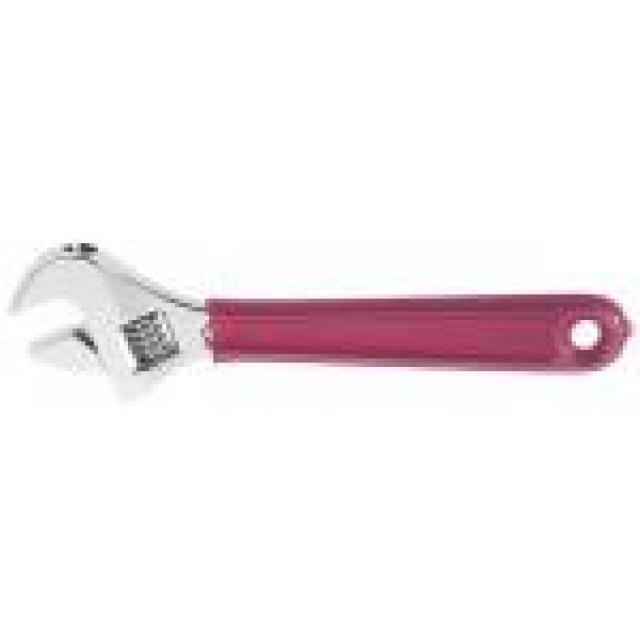wrench: (5, 180, 638, 442)
